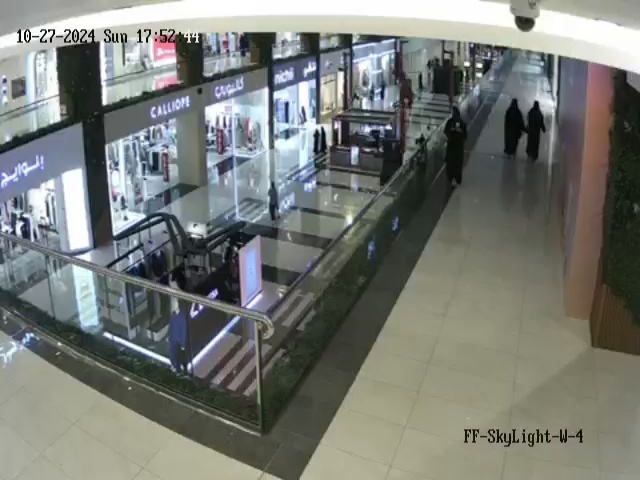female: (441, 106, 468, 189), (503, 98, 527, 159), (525, 100, 546, 162), (321, 124, 328, 153), (312, 130, 320, 155), (415, 72, 425, 91), (379, 81, 386, 102), (369, 83, 376, 102)
male: (266, 182, 284, 223)
other: (167, 303, 193, 379)
